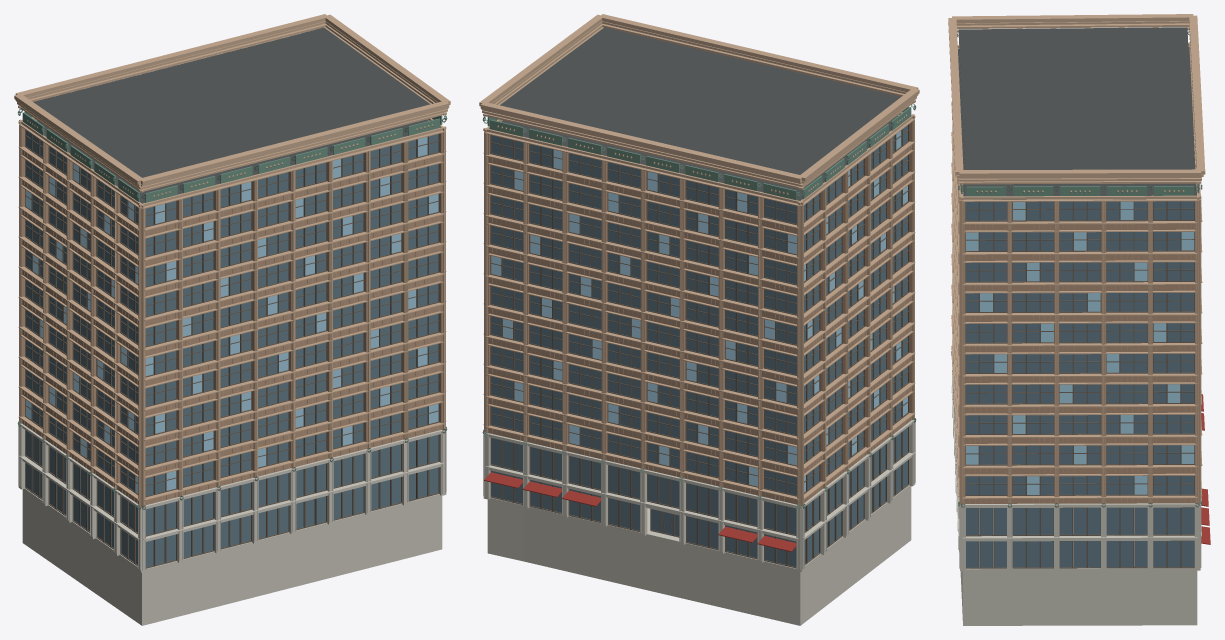
Rendered from brooks_building.glb.
The picture shows the model from 3 angles, left to right: view 1: azimuth 30°, elevation 25°; view 2: azimuth 150°, elevation 25°; view 3: azimuth 270°, elevation 25°; orthographic projection.
Visible parts, largest first — view 1: Recessed blue grey office panes, Warm terracotta mouldings, Dark roof and doorway recesses, Pale two storey retail base, Orange brown terracotta piers, Dark bronze window frames, Night occupied office panes, Green glazed terra cotta ornament; view 2: Recessed blue grey office panes, Warm terracotta mouldings, Orange brown terracotta piers, Pale two storey retail base, Dark roof and doorway recesses, Dark bronze window frames, Night occupied office panes, Green glazed terra cotta ornament, Red Jackson retail awnings; view 3: Recessed blue grey office panes, Warm terracotta mouldings, Dark roof and doorway recesses, Orange brown terracotta piers, Pale two storey retail base, Dark bronze window frames, Night occupied office panes, Green glazed terra cotta ornament, Red Jackson retail awnings.
Part boxes in pixels (bbox=[...]): Recessed blue grey office panes: bbox=[26, 130, 438, 567]; Warm terracotta mouldings: bbox=[14, 14, 450, 507]; Dark roof and doorway recesses: bbox=[32, 27, 432, 497]; Pale two storey retail base: bbox=[18, 423, 446, 625]; Orange brown terracotta piers: bbox=[20, 124, 445, 507]; Dark bronze window frames: bbox=[25, 129, 439, 568]; Night occupied office panes: bbox=[26, 137, 438, 493]; Green glazed terra cotta ornament: bbox=[17, 108, 447, 509]; Recessed blue grey office panes: bbox=[491, 125, 907, 566]; Warm terracotta mouldings: bbox=[479, 14, 919, 506]; Orange brown terracotta piers: bbox=[484, 118, 913, 506]; Pale two storey retail base: bbox=[483, 418, 915, 625]; Dark roof and doorway recesses: bbox=[497, 27, 902, 496]; Dark bronze window frames: bbox=[490, 124, 909, 568]; Night occupied office panes: bbox=[491, 130, 907, 492]; Green glazed terra cotta ornament: bbox=[482, 103, 916, 509]; Red Jackson retail awnings: bbox=[484, 472, 796, 551]; Recessed blue grey office panes: bbox=[966, 201, 1194, 567]; Warm terracotta mouldings: bbox=[948, 14, 1205, 505]; Dark roof and doorway recesses: bbox=[958, 27, 1196, 495]; Orange brown terracotta piers: bbox=[960, 199, 1199, 504]; Pale two storey retail base: bbox=[951, 357, 1201, 625]; Dark bronze window frames: bbox=[965, 201, 1194, 568]; Night occupied office panes: bbox=[966, 201, 1194, 494]; Green glazed terra cotta ornament: bbox=[951, 31, 1202, 507]; Red Jackson retail awnings: bbox=[1200, 394, 1210, 544].
Size of the model in its own units: 48.81 by 65 by 33.92.
